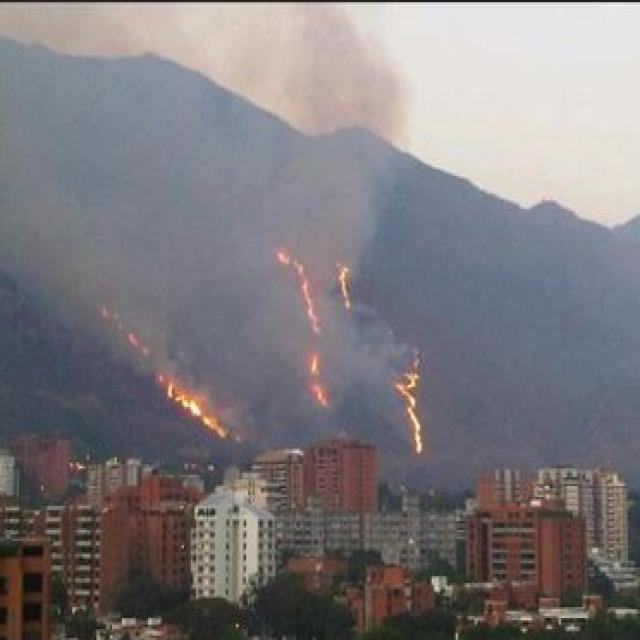Fire: (164, 376, 217, 422), (401, 374, 424, 461), (335, 260, 356, 314), (312, 348, 323, 414)
Smoke: (290, 160, 370, 238)
